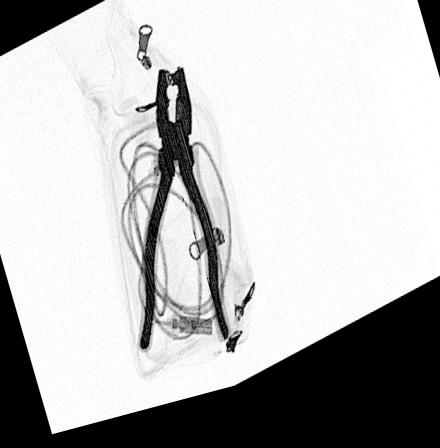Pliers: (137, 73, 234, 360)
